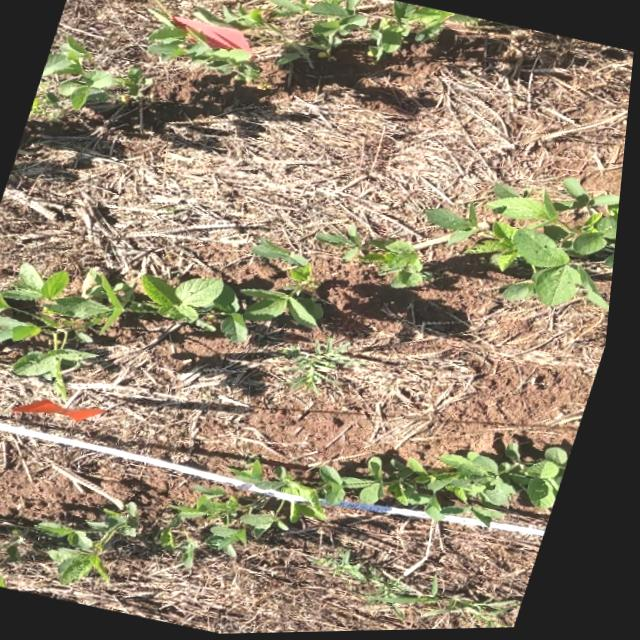grassy_weed: (327, 552, 531, 631), (281, 338, 366, 395)
soy_plant: (30, 0, 477, 118), (0, 239, 328, 397), (186, 445, 579, 553), (430, 180, 624, 313), (44, 498, 147, 584), (320, 226, 430, 288), (0, 530, 33, 587)
